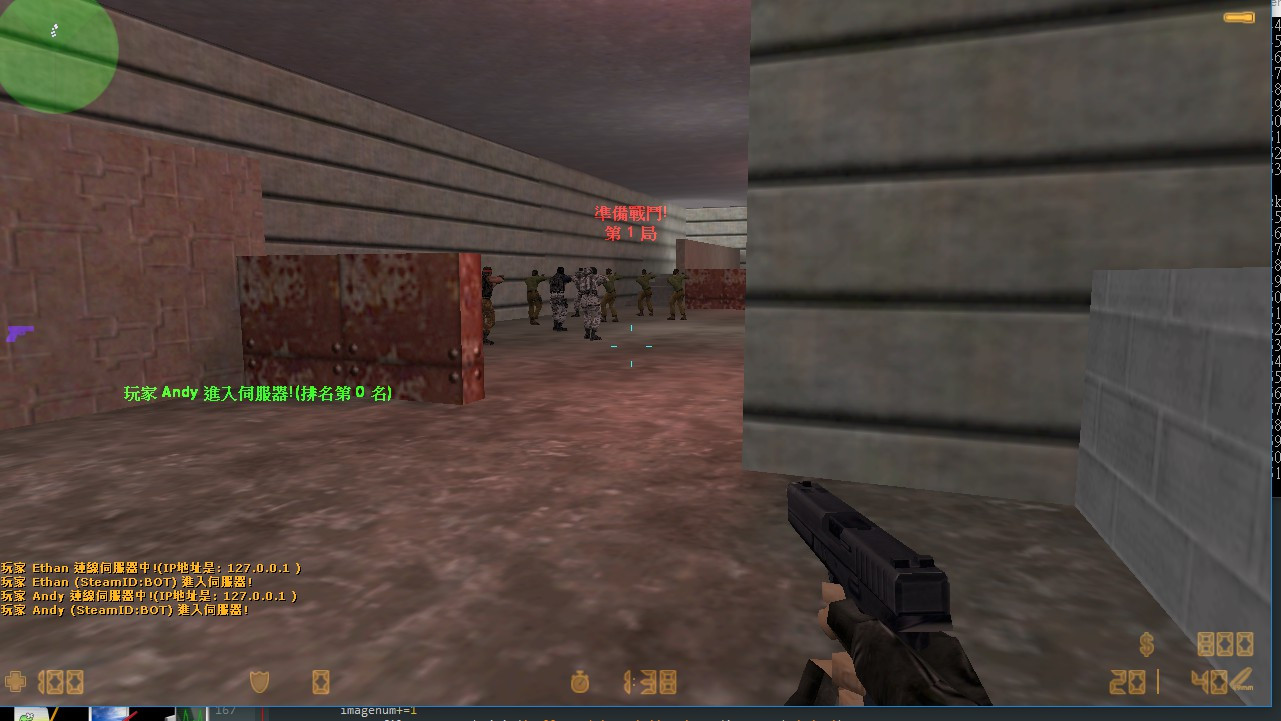person: (481, 263, 505, 350), (548, 263, 572, 331), (583, 262, 603, 340), (663, 265, 687, 321), (525, 267, 546, 329), (634, 267, 656, 318), (600, 268, 620, 323), (573, 266, 587, 317)
